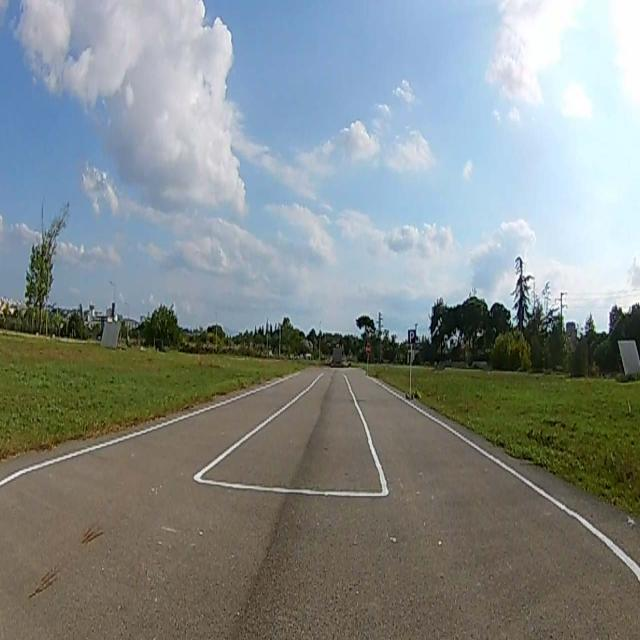park: (408, 331, 415, 344)
